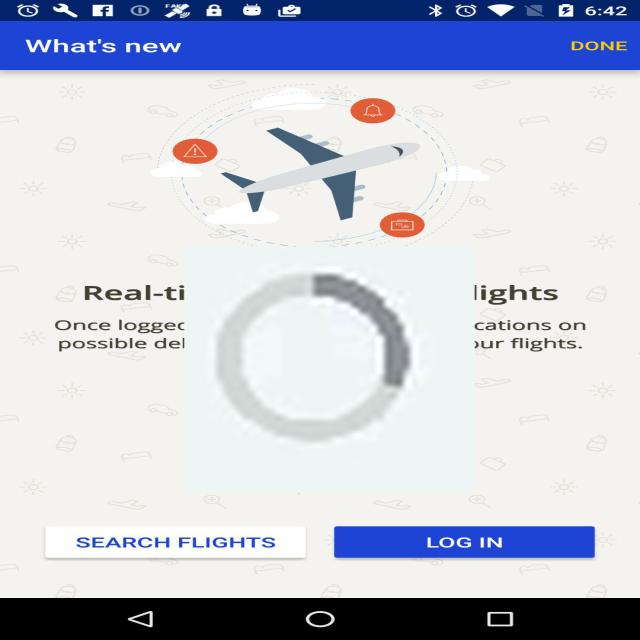misdirection: (184, 246, 475, 493)
